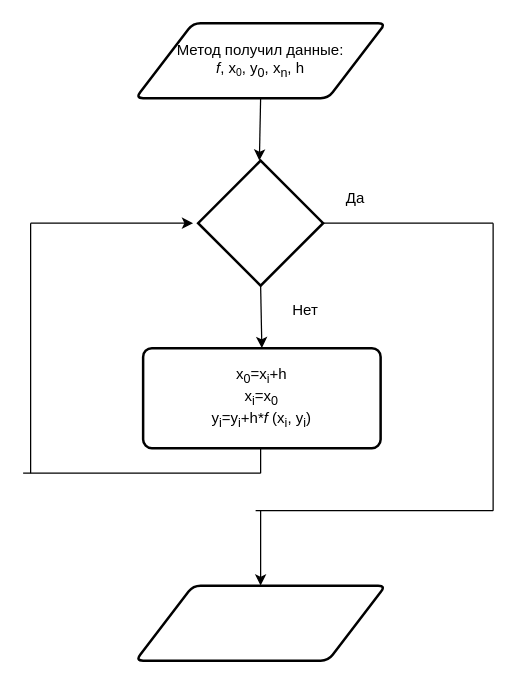
The diagram is 516 pixels wide and 683 high, and some of its shapes have lost their labels. The shapes that lost their labels are listed below. From the top down, each one's centre as x and y in pixels, then its label:
pixel 260 222: x 0 = x n
pixel 260 622: {x i }, {y i }
